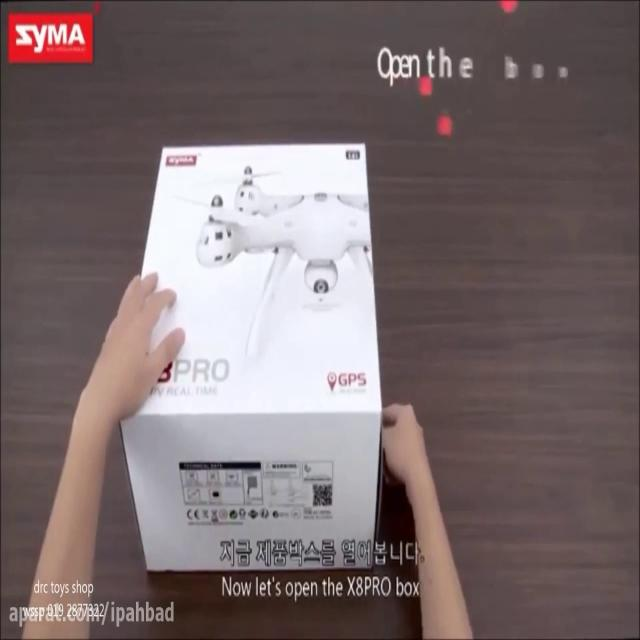drone: (172, 164, 372, 353)
